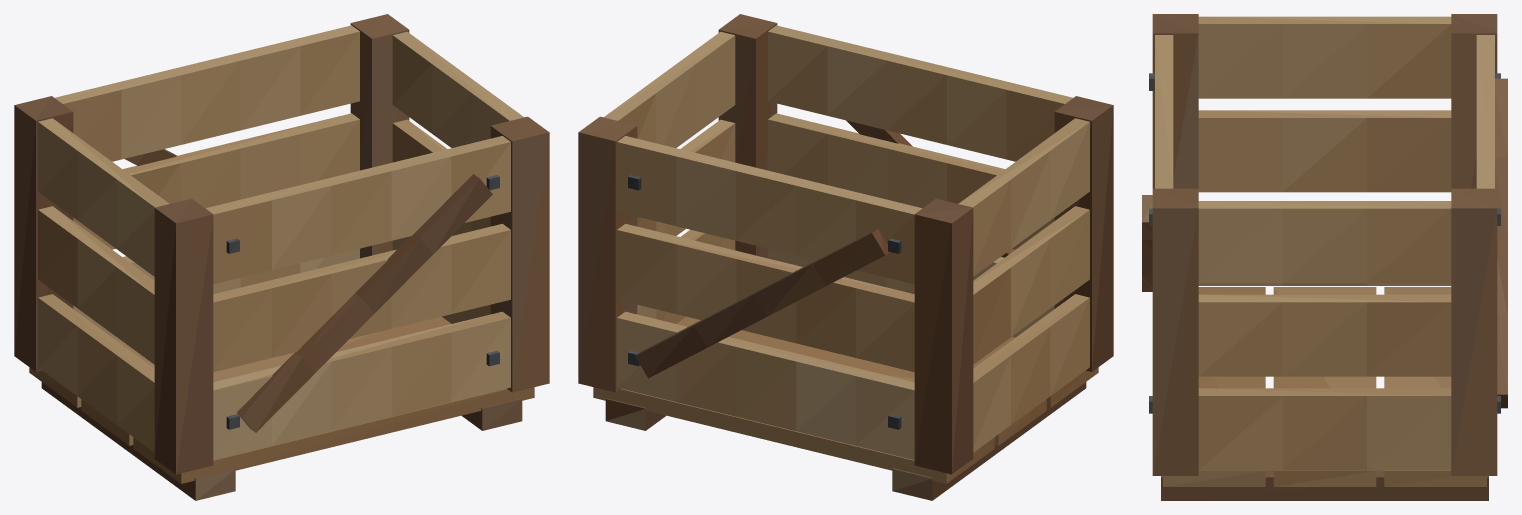
File: crate-open.clunk-optimized.glb
3 renders of one model, left to right at view 1: azimuth 30°, elevation 25°; view 2: azimuth 150°, elevation 25°; view 3: azimuth 270°, elevation 25°, orthographic. The views are drawn at different scales.
Visible parts, largest first — view 1: crate_body, hardware; view 2: crate_body, hardware; view 3: crate_body, hardware.
Part boxes in pixels (x1,y1,x2,y2): crate_body: (14, 14, 549, 500); hardware: (226, 175, 499, 429); crate_body: (578, 14, 1113, 500); hardware: (628, 175, 901, 429); crate_body: (1142, 14, 1507, 500); hardware: (1149, 73, 1500, 413).
Size of the model in its own units: 0.56 by 0.41 by 0.446.
